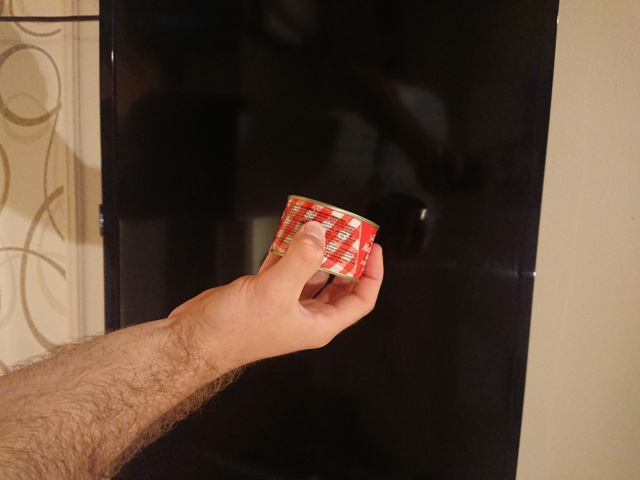Podravka Luncheon Meat 150g: (267, 191, 381, 286)
